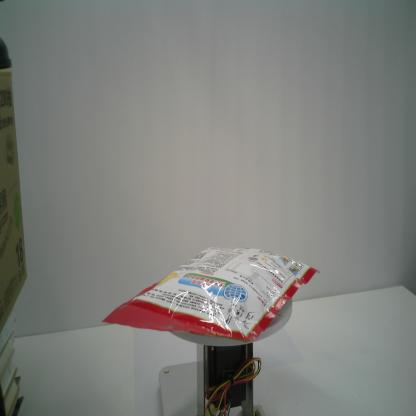Instant Drink: (102, 245, 321, 344)
